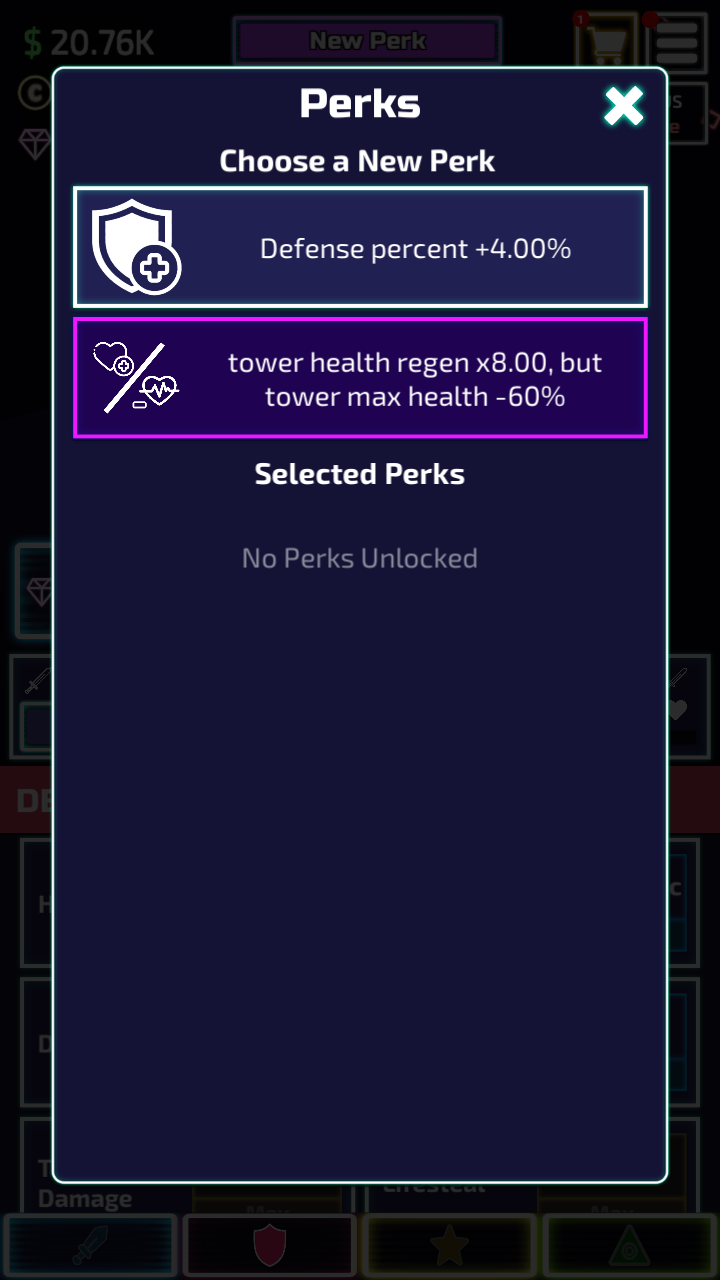B_Choose_Perks: (68, 137, 653, 449)
B_Menu_Action_Required: (636, 16, 709, 68)
B_Menu_Closed: (571, 15, 705, 66)
B_New_Perk: (230, 25, 495, 55)
B_Perk_Button: (73, 320, 646, 438), (75, 189, 643, 303)
B_Perk_Label: (203, 336, 616, 418), (237, 219, 587, 276)
B_Selected_Perks: (68, 458, 652, 587)
B_Shop_Action_Required: (563, 14, 639, 66)
